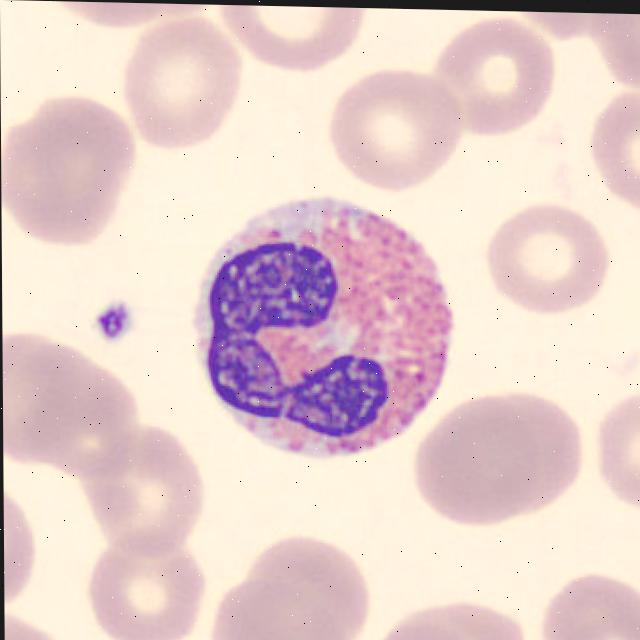eosinophil: (179, 180, 460, 460)
rbc: (413, 387, 589, 521), (1, 95, 137, 243), (217, 525, 387, 640), (333, 64, 467, 195), (118, 18, 247, 147), (422, 18, 563, 136), (486, 200, 616, 319), (81, 425, 199, 553), (247, 533, 388, 640), (37, 354, 143, 474), (2, 330, 92, 469), (91, 536, 206, 640), (220, 5, 369, 72), (533, 554, 640, 640), (514, 11, 640, 83), (380, 598, 522, 640), (590, 387, 640, 506), (4, 488, 50, 599), (57, 2, 203, 32), (5, 608, 63, 640)
